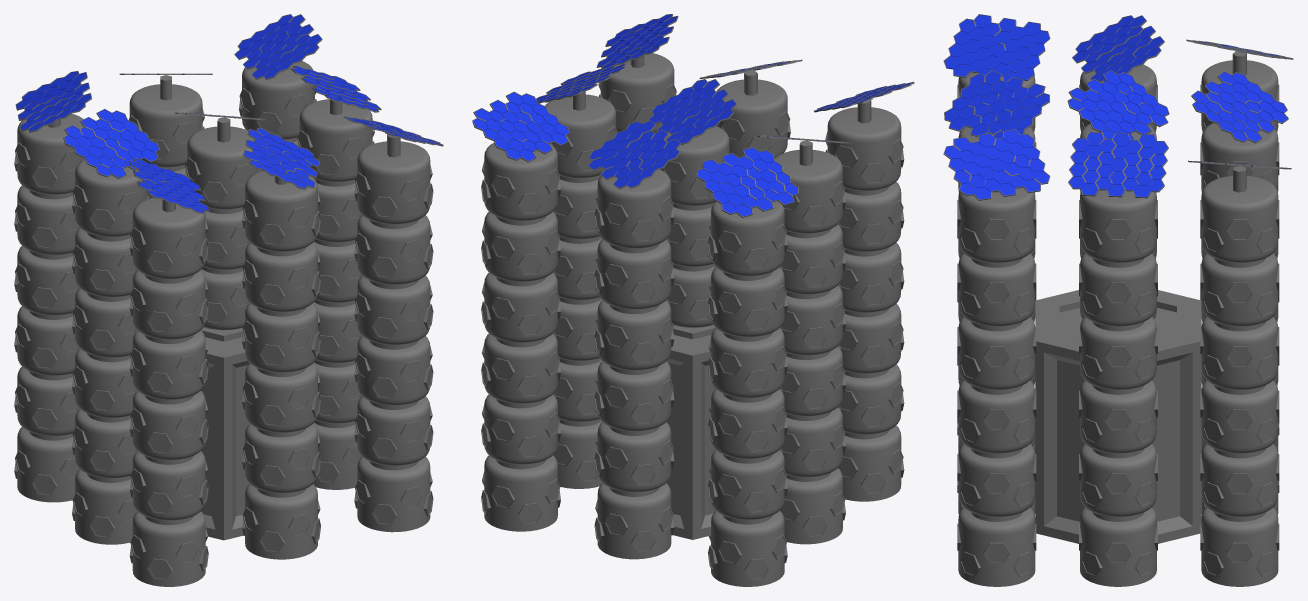
Rendered from Building_6.fbx.
3 renders of one model, left to right at view 1: azimuth 30°, elevation 25°; view 2: azimuth 150°, elevation 25°; view 3: azimuth 270°, elevation 25°, orthographic. The views are drawn at different scales.
Visible parts, largest first — view 1: Cylinder002; view 2: Cylinder002; view 3: Cylinder002.
Part boxes in pixels (<box>): Cylinder002: <box>14,14,443,586</box>; Cylinder002: <box>472,14,914,586</box>; Cylinder002: <box>943,14,1293,586</box>.
Size of the model in its own units: 746 by 931 by 700.
